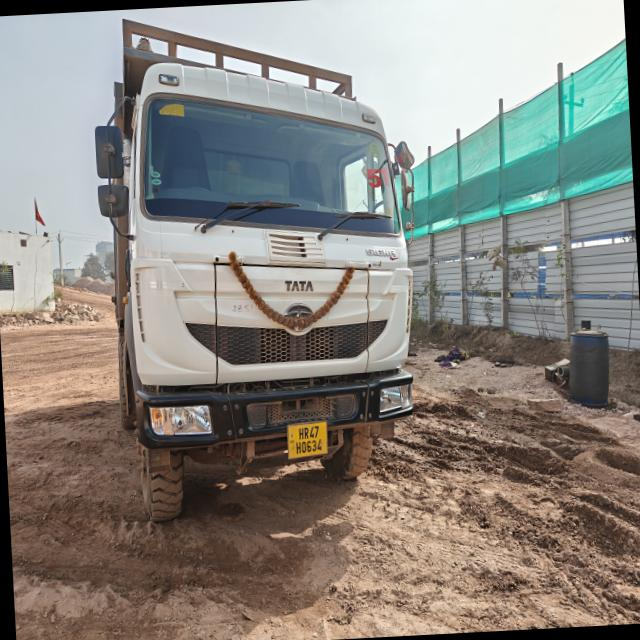license_plate: (288, 422, 328, 459)
